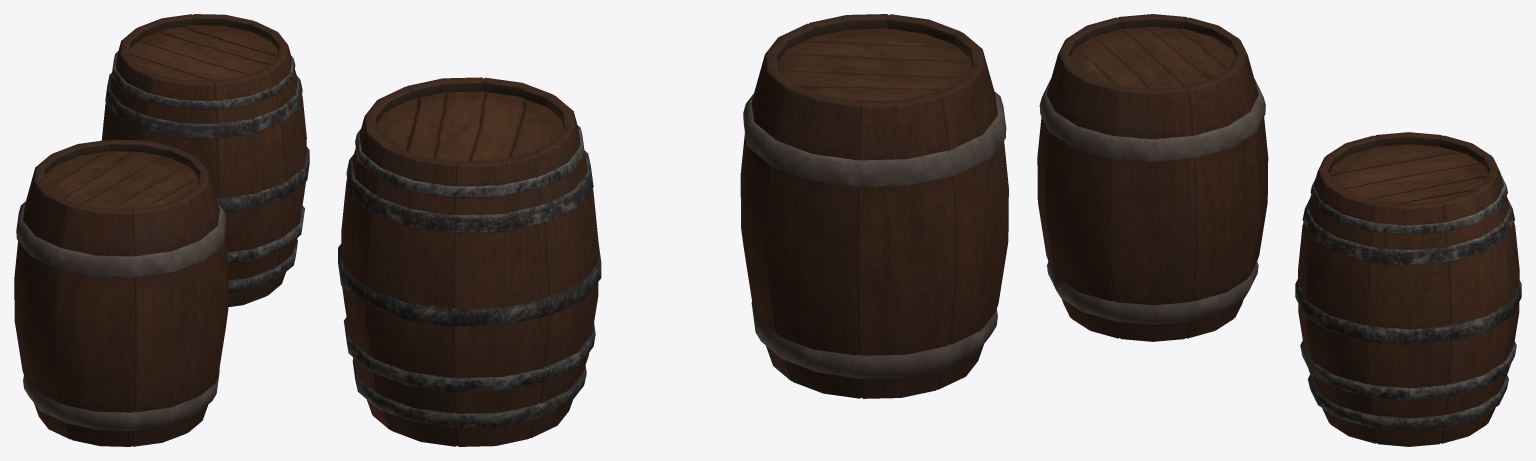
File: sm_barrel_replace2.gltf
The picture shows the model from 3 angles, left to right: view 1: azimuth 30°, elevation 25°; view 2: azimuth 150°, elevation 25°; view 3: azimuth 270°, elevation 25°; orthographic projection. The views are drawn at different scales.
Parts seen in each view (by area): view 1: polySurface424, polySurface430, polySurface444, polySurface423, polySurface432, polySurface448, polySurface376, polySurface426, polySurface445, polySurface442, polySurface422, polySurface406 (+13 smaller); view 2: polySurface425, polySurface428, polySurface449, polySurface443, polySurface423, polySurface432, polySurface448, polySurface441, polySurface376, polySurface427, polySurface446, polySurface422 (+13 smaller); view 3: polySurface429, polySurface450, polySurface426, polySurface427, polySurface446, polySurface442, polySurface432, polySurface448, polySurface376, polySurface422, polySurface403, polySurface406 (+13 smaller).
Boxes of the visible parts, x1,y1,x2,y2 form: polySurface424: (56,202,135,446); polySurface430: (132,196,205,446); polySurface444: (214,68,285,307); polySurface423: (14,180,72,439); polySurface432: (43,151,198,209); polySurface448: (129,25,277,80); polySurface376: (16,201,226,277); polySurface426: (185,171,228,432); polySurface445: (144,74,217,197); polySurface442: (265,44,306,295); polySurface422: (23,369,219,430); polySurface406: (105,73,302,139); polySurface425: (857,93,955,398); polySurface428: (769,85,861,398); polySurface449: (453,153,547,446); polySurface443: (368,145,457,446); polySurface423: (936,65,1008,389); polySurface432: (778,28,971,101); polySurface448: (377,91,563,161); polySurface441: (529,126,598,437); polySurface376: (743,91,1006,186); polySurface427: (740,54,794,381); polySurface446: (341,115,393,430); polySurface422: (751,302,997,378); polySurface429: (1109,86,1196,341); polySurface450: (1367,201,1450,446); polySurface426: (1047,67,1119,338); polySurface427: (1185,67,1257,338); polySurface446: (1440,183,1509,443); polySurface442: (1307,183,1377,443); polySurface432: (1070,26,1235,89); polySurface448: (1329,144,1488,204); polySurface376: (1039,79,1265,161); polySurface422: (1047,261,1258,324); polySurface403: (1295,279,1521,345); polySurface406: (1302,198,1514,265).
Bounding box in the file's own units: 130 × 75.75 × 131.
Materials: 1 (1 with a texture image).
